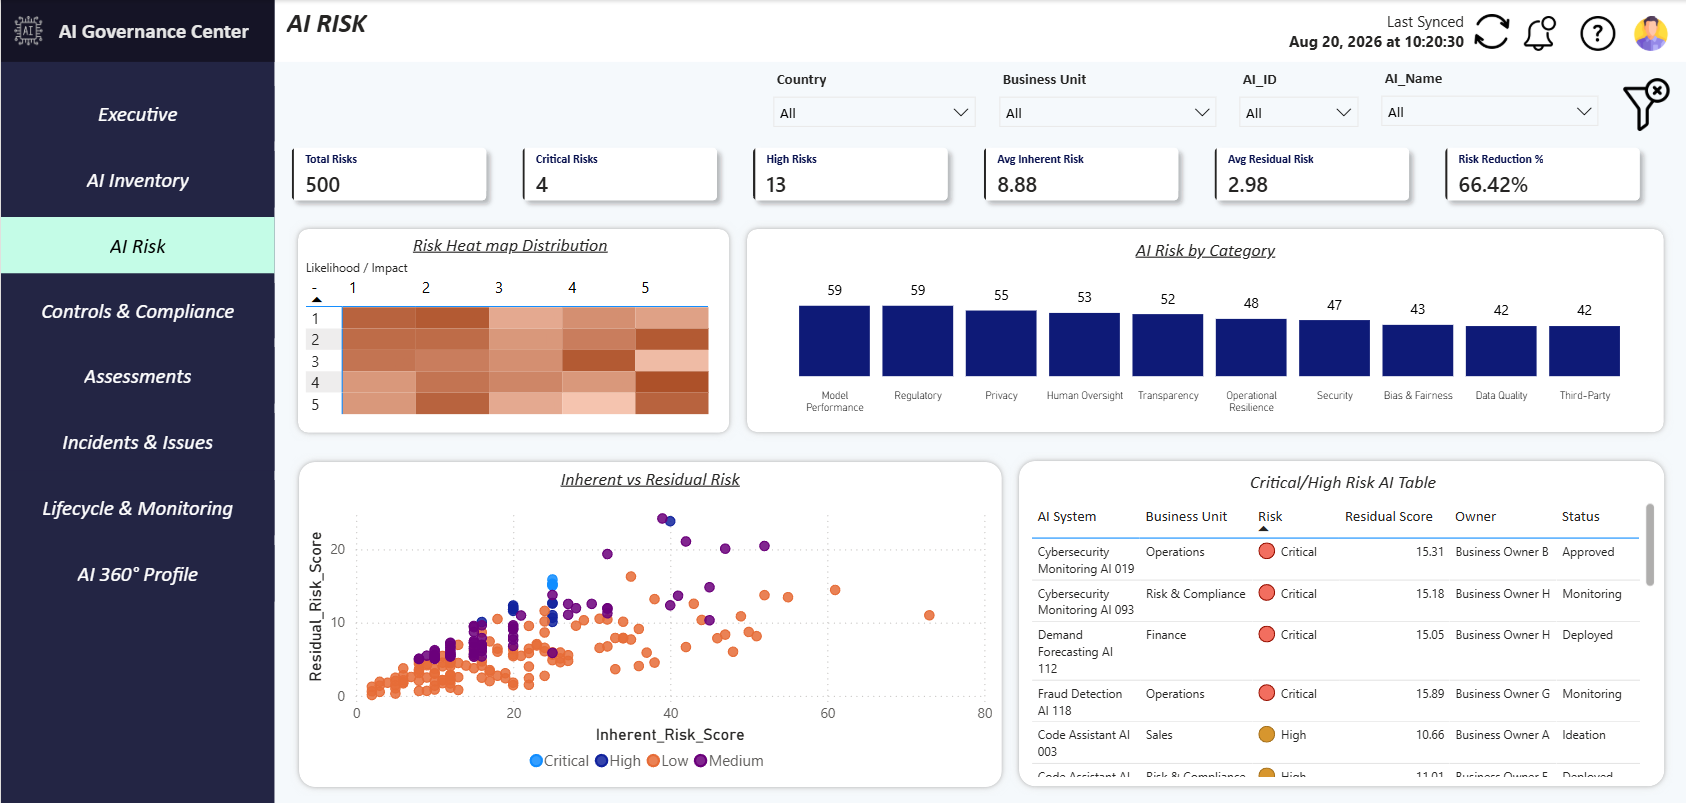

What the dashboard file says about the page in this screenshot:
{"tool":"powerbi","page":{"name":"AI Risk","canvas":[1500,715],"ordinal":2},"visuals":[{"type":"shape","box":[0,0,1500,720.5],"z":0},{"type":"shape","box":[0,0,243.4,715.7],"z":1000},{"type":"shape","box":[0,0,243.4,55.2],"z":2000},{"type":"shape","box":[243.4,0,1256.6,55.2],"z":3000},{"type":"textbox","box":[46,10.2,186.1,33.7],"z":4000},{"type":"image","box":[1446.8,14.3,39.5,31.1],"z":5000},{"type":"image","box":[1347.6,14.3,38.6,31.1],"z":6000},{"type":"cardVisual","fields":{"Data":["_Measures.Total Risks","_Measures.Critical Risks","_Measures.High Risks","_Measures.Avg Inherent Risk","_Measures.Avg Residual Risk","_Measures.Risk Reduction %"]},"box":[229,102.2,1257.7,105.3],"z":7000},{"type":"shape","box":[256.2,195.2,399.3,197],"z":8000},{"type":"textbox","box":[356,202.3,192.4,38],"z":9000},{"type":"shape","box":[655.2,195.4,830.7,196.6],"z":10000},{"type":"clusteredColumnChart","fields":{"Category":["Fact_Risk.Risk_Category"],"Y":["Count(Fact_Risk.Risk_ID)"]},"box":[665.8,234,808.5,141.6],"z":11000},{"type":"textbox","box":[952.4,207.1,235.4,37.7],"z":12000},{"type":"shape","box":[256.5,402.7,640.5,304.9],"z":13000},{"type":"shape","box":[896.7,401.9,589.5,305.1],"z":14000},{"type":"tableEx","fields":{"Values":["AI_Inventory.AI_Name","AI_Inventory.Business_Unit","Fact_Risk.Residual_Risk_Level","Fact_Risk.Residual_Risk_Score","AI_Inventory.Business_Owner","AI_Inventory.Lifecycle_Status"]},"box":[909.9,441.4,565,253.3],"z":15000},{"type":"textbox","box":[463.6,410.7,226,38],"z":16000},{"type":"textbox","box":[1079.2,413.1,226,38],"z":17000},{"type":"image","box":[9.2,14.3,30.7,25.6],"z":18000},{"type":"image","box":[1399.8,14.3,39,31],"z":19000},{"type":"textbox","box":[1100.7,5.1,204.2,44.9],"z":20000},{"type":"image","box":[1305,12.3,39,31],"z":21000},{"type":"shape","box":[0,76.2,242.9,49.5],"z":22000},{"type":"shape","box":[0,484,243,50],"z":23000},{"type":"shape","box":[0,426.5,243,49],"z":24000},{"type":"shape","box":[0,192.6,243,50],"z":25000},{"type":"shape","box":[0,367,243,51.1],"z":26000},{"type":"shape","box":[0,308.5,243,50],"z":27000},{"type":"shape","box":[0,251.1,243,49],"z":28000},{"type":"shape","box":[0,134.1,243,50],"z":29000},{"type":"image","box":[1439,68,46.8,49.5],"z":30000},{"type":"pivotTable","fields":{"Rows":["Fact_Risk.Likelihood"],"Columns":["Fact_Risk.Impact"],"Values":["Count(Fact_Risk.AI_ID)"]},"box":[265.9,240.3,371.9,135.2],"z":31000},{"type":"textbox","box":[265.9,222.6,115.7,31.8],"z":32000},{"type":"textbox","box":[249.1,0,146.6,61],"z":33000},{"type":"scatterChart","fields":{"X":["Sum(Fact_Risk.Inherent_Risk_Score)"],"Y":["Sum(Fact_Risk.Residual_Risk_Score)"],"Category":["AI_Inventory.AI_ID"],"Series":["Fact_Risk.Residual_Risk_Level"]},"box":[266.3,441.3,619.2,253],"z":34000},{"type":"slicer","fields":{"Values":["AI_Inventory.Country"]},"box":[676.3,57.1,199.6,69.7],"z":35000},{"type":"slicer","fields":{"Values":["AI_Inventory.Business_Unit"]},"box":[876.9,56.6,213.1,70.4],"z":36000},{"type":"slicer","fields":{"Values":["AI_Inventory.AI_ID"]},"box":[1090,57.1,125.6,70.4],"z":37000},{"type":"slicer","fields":{"Values":["AI_Inventory.AI_Name"]},"box":[1216.6,56.1,213.1,70.4],"z":38000}]}

Visuals, with their boxes on the page's 1500x715 design canvas (x1, y1, x2, y2). These are canvas units, not pixel positions in the 1686x803 screenshot, which may show the page scaled, cropped or inside an application window:
shape: crop(0, 0, 1500, 720)
shape: crop(0, 0, 243, 716)
shape: crop(0, 0, 243, 55)
shape: crop(243, 0, 1500, 55)
textbox: crop(46, 10, 232, 44)
image: crop(1447, 14, 1486, 45)
image: crop(1348, 14, 1386, 45)
cardVisual - _Measures.Total Risks x _Measures.Critical Risks: crop(229, 102, 1487, 208)
shape: crop(256, 195, 656, 392)
textbox: crop(356, 202, 548, 240)
shape: crop(655, 195, 1486, 392)
clusteredColumnChart - Fact_Risk.Risk_Category x Count(Fact_Risk.Risk_ID): crop(666, 234, 1474, 376)
textbox: crop(952, 207, 1188, 245)
shape: crop(256, 403, 897, 708)
shape: crop(897, 402, 1486, 707)
tableEx - AI_Inventory.AI_Name x AI_Inventory.Business_Unit: crop(910, 441, 1475, 695)
textbox: crop(464, 411, 690, 449)
textbox: crop(1079, 413, 1305, 451)
image: crop(9, 14, 40, 40)
image: crop(1400, 14, 1439, 45)
textbox: crop(1101, 5, 1305, 50)
image: crop(1305, 12, 1344, 43)
shape: crop(0, 76, 243, 126)
shape: crop(0, 484, 243, 534)
shape: crop(0, 426, 243, 476)
shape: crop(0, 193, 243, 243)
shape: crop(0, 367, 243, 418)
shape: crop(0, 308, 243, 358)
shape: crop(0, 251, 243, 300)
shape: crop(0, 134, 243, 184)
image: crop(1439, 68, 1486, 118)
pivotTable - Fact_Risk.Likelihood x Fact_Risk.Impact: crop(266, 240, 638, 376)
textbox: crop(266, 223, 382, 254)
textbox: crop(249, 0, 396, 61)
scatterChart - Sum(Fact_Risk.Inherent_Risk_Score) x Sum(Fact_Risk.Residual_Risk_Score): crop(266, 441, 886, 694)
slicer - AI_Inventory.Country: crop(676, 57, 876, 127)
slicer - AI_Inventory.Business_Unit: crop(877, 57, 1090, 127)
slicer - AI_Inventory.AI_ID: crop(1090, 57, 1216, 128)
slicer - AI_Inventory.AI_Name: crop(1217, 56, 1430, 126)
